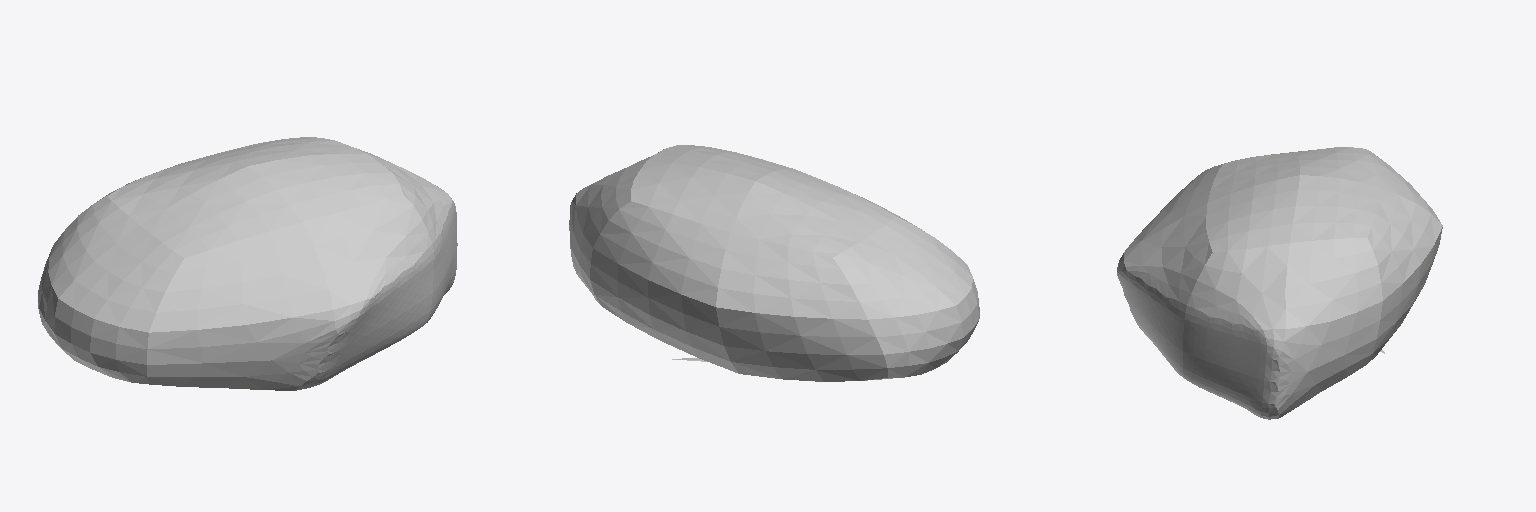
File: stone.obj
3 renders of one model, left to right at view 1: azimuth 30°, elevation 25°; view 2: azimuth 150°, elevation 25°; view 3: azimuth 270°, elevation 25°, orthographic.
Bounding box in the file's own units: 0.6486 × 0.2558 × 0.4615.